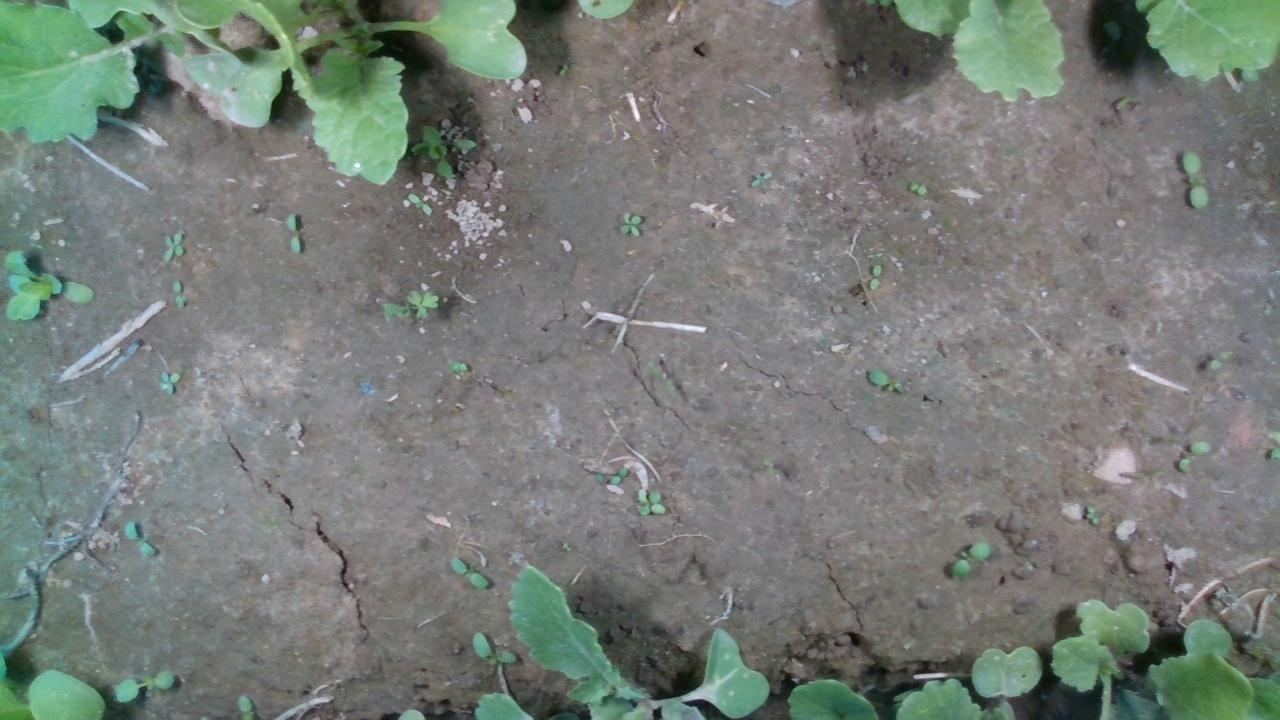weed: (112, 666, 175, 701), (1178, 148, 1209, 210), (382, 289, 439, 320), (470, 631, 517, 665), (948, 540, 991, 576), (120, 518, 157, 557), (447, 554, 489, 588), (862, 368, 909, 394), (1175, 439, 1210, 472), (634, 487, 665, 517), (283, 211, 302, 255), (617, 208, 642, 236), (160, 230, 184, 259), (156, 369, 178, 394), (1209, 348, 1233, 370), (749, 167, 771, 189), (170, 277, 183, 307), (1081, 503, 1099, 523), (867, 262, 880, 288), (609, 466, 627, 484), (907, 181, 927, 194)
